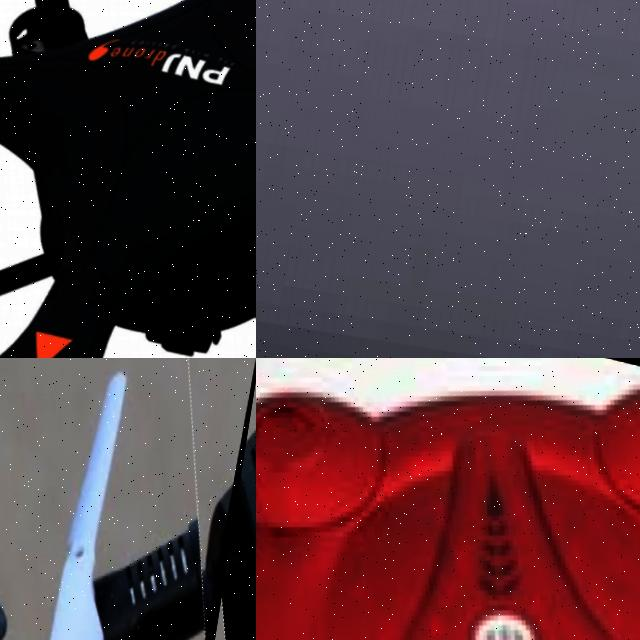drone: (256, 358, 640, 640), (0, 0, 256, 358), (0, 358, 256, 640)
